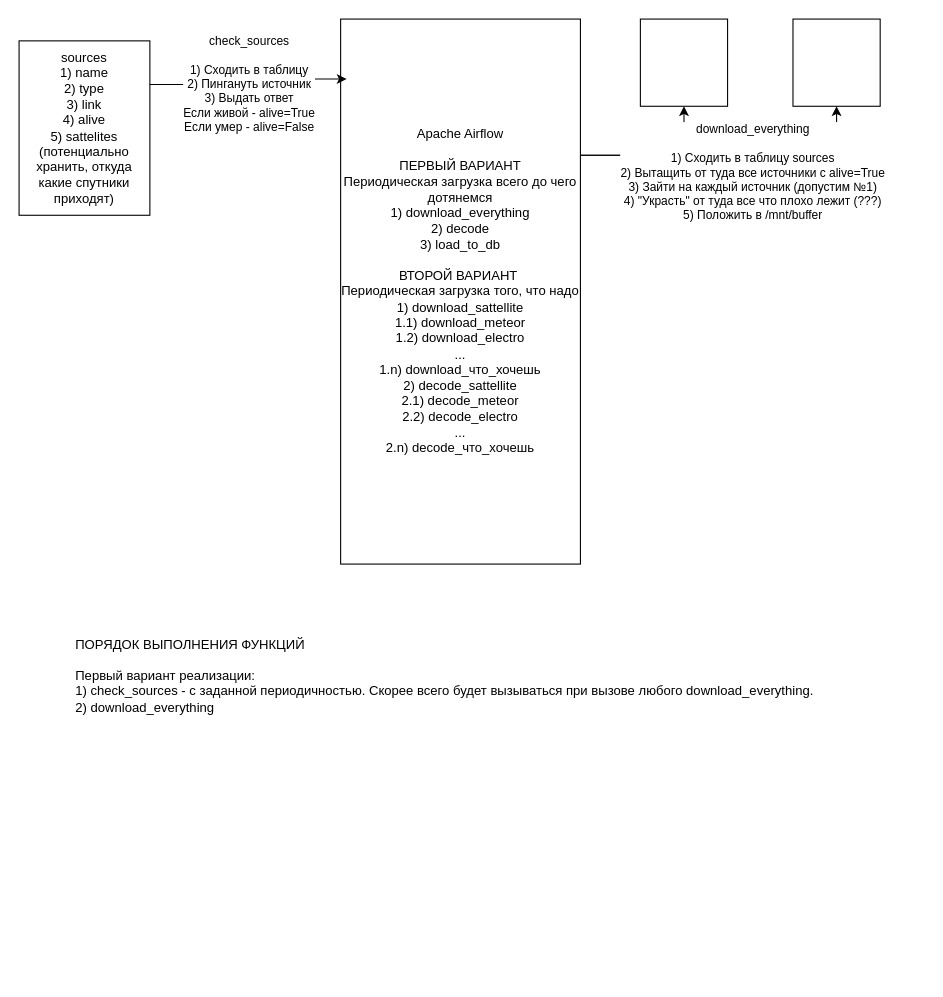
The diagram is 943 pixels wide and 997 high, and some of its shapes have lost their labels. The centre of each missing label's shape, as x and y in pixels:
"Источник 1" belongs at [683,62].
"Источник n" belongs at [836,62].
